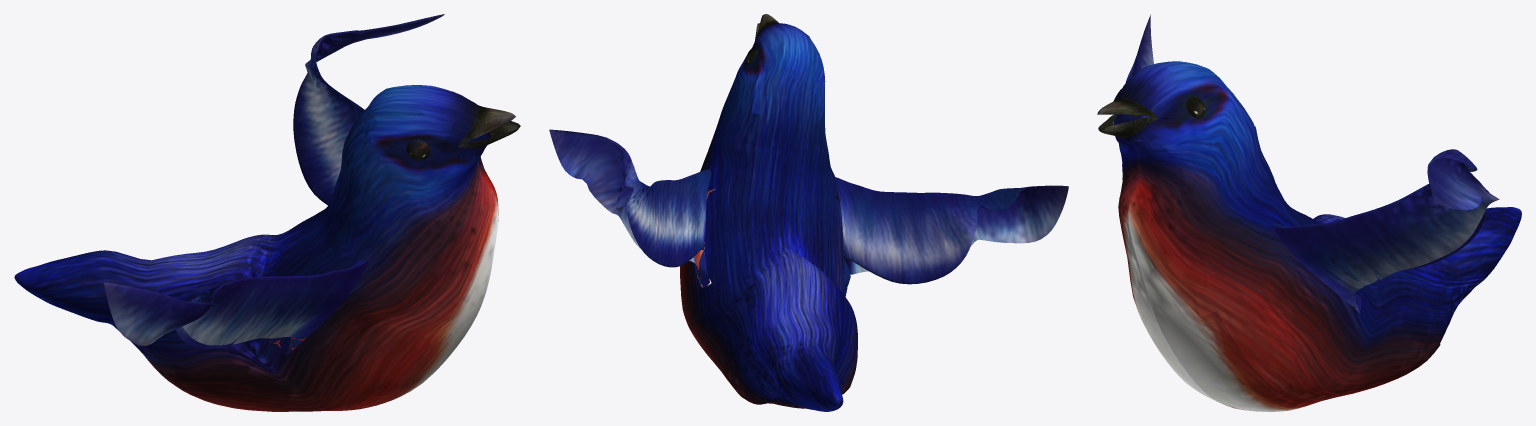
Rendered from CuerpoPajaro.obj.
3 renders of one model, left to right at view 1: azimuth 30°, elevation 25°; view 2: azimuth 150°, elevation 25°; view 3: azimuth 270°, elevation 25°, orthographic. The views are drawn at different scales.
Parts seen in each view (by area): view 1: pajaro_azul.012; view 2: pajaro_azul.012; view 3: pajaro_azul.012.
Boxes of the visible parts, x1,y1,x2,y2 form: pajaro_azul.012: (14,14,520,411); pajaro_azul.012: (549,14,1068,411); pajaro_azul.012: (1097,14,1521,411).
Bounding box in the file's own units: 28.98 × 20.19 × 21.66.
1 material, 1 textured.
